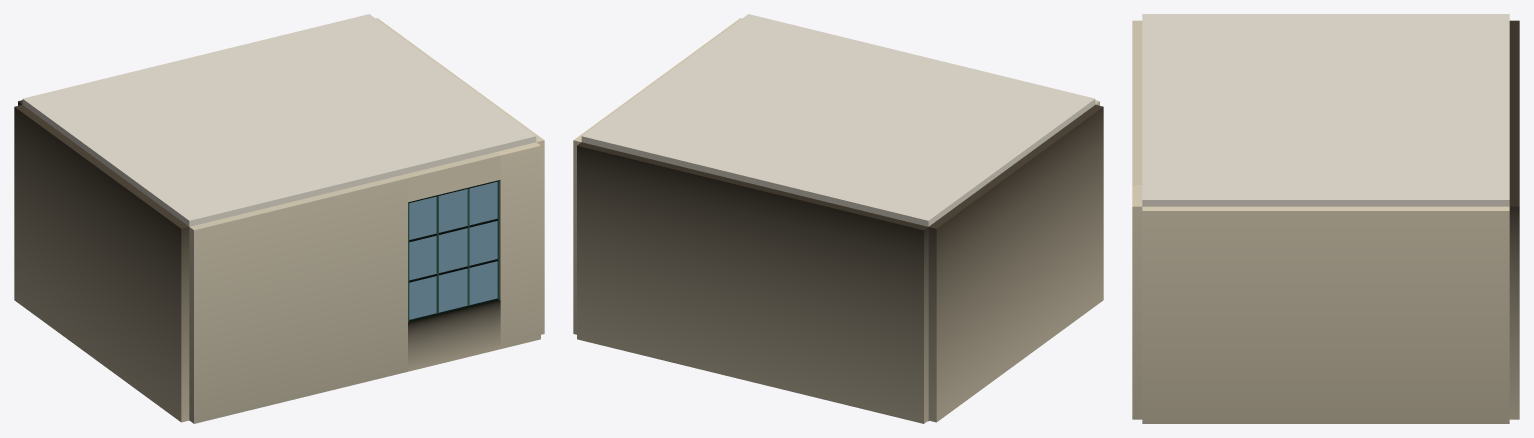
The model's file is shop.glb.
3 renders of one model, left to right at view 1: azimuth 30°, elevation 25°; view 2: azimuth 150°, elevation 25°; view 3: azimuth 270°, elevation 25°, orthographic. The views are drawn at different scales.
Parts seen in each view (by area): view 1: shop.plaster.5, shop.plaster.6, shop.glass.2, shop.paint.3; view 2: shop.plaster.5, shop.plaster.6; view 3: shop.plaster.5, shop.plaster.6.
Boxes of the visible parts, x1,y1,x2,y2 form: shop.plaster.5: (14, 18, 544, 423); shop.plaster.6: (22, 14, 536, 226); shop.glass.2: (409, 181, 497, 319); shop.paint.3: (408, 180, 499, 322); shop.plaster.5: (573, 18, 1103, 423); shop.plaster.6: (581, 14, 1095, 226); shop.plaster.5: (1132, 20, 1519, 423); shop.plaster.6: (1142, 14, 1509, 206).
Size of the model in its own units: 6.28 by 3.32 by 5.28.
